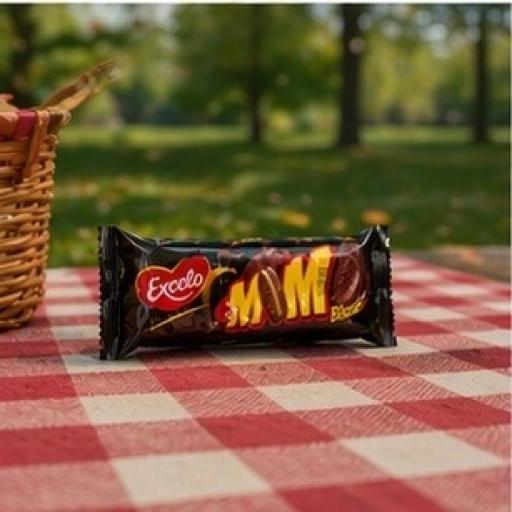MOMO: (81, 162, 429, 400)
